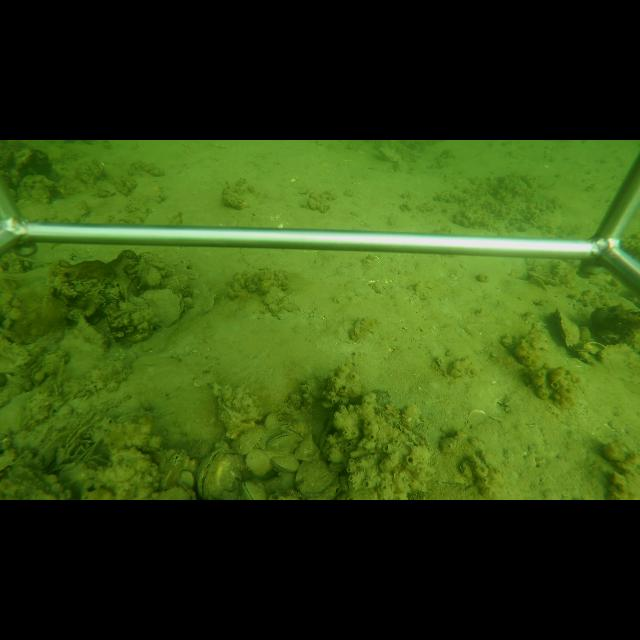Oyster-Closed: (198, 450, 245, 498), (140, 288, 186, 328), (293, 460, 339, 496), (76, 315, 111, 354), (555, 308, 579, 349), (230, 425, 263, 454), (244, 448, 272, 476), (266, 432, 300, 453), (241, 479, 266, 499), (271, 454, 298, 472), (376, 147, 398, 162)
